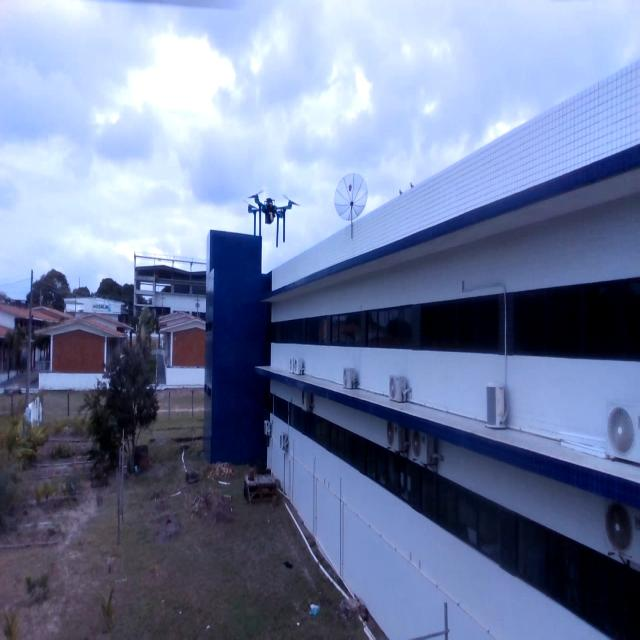-uav-: (236, 172, 300, 259)
